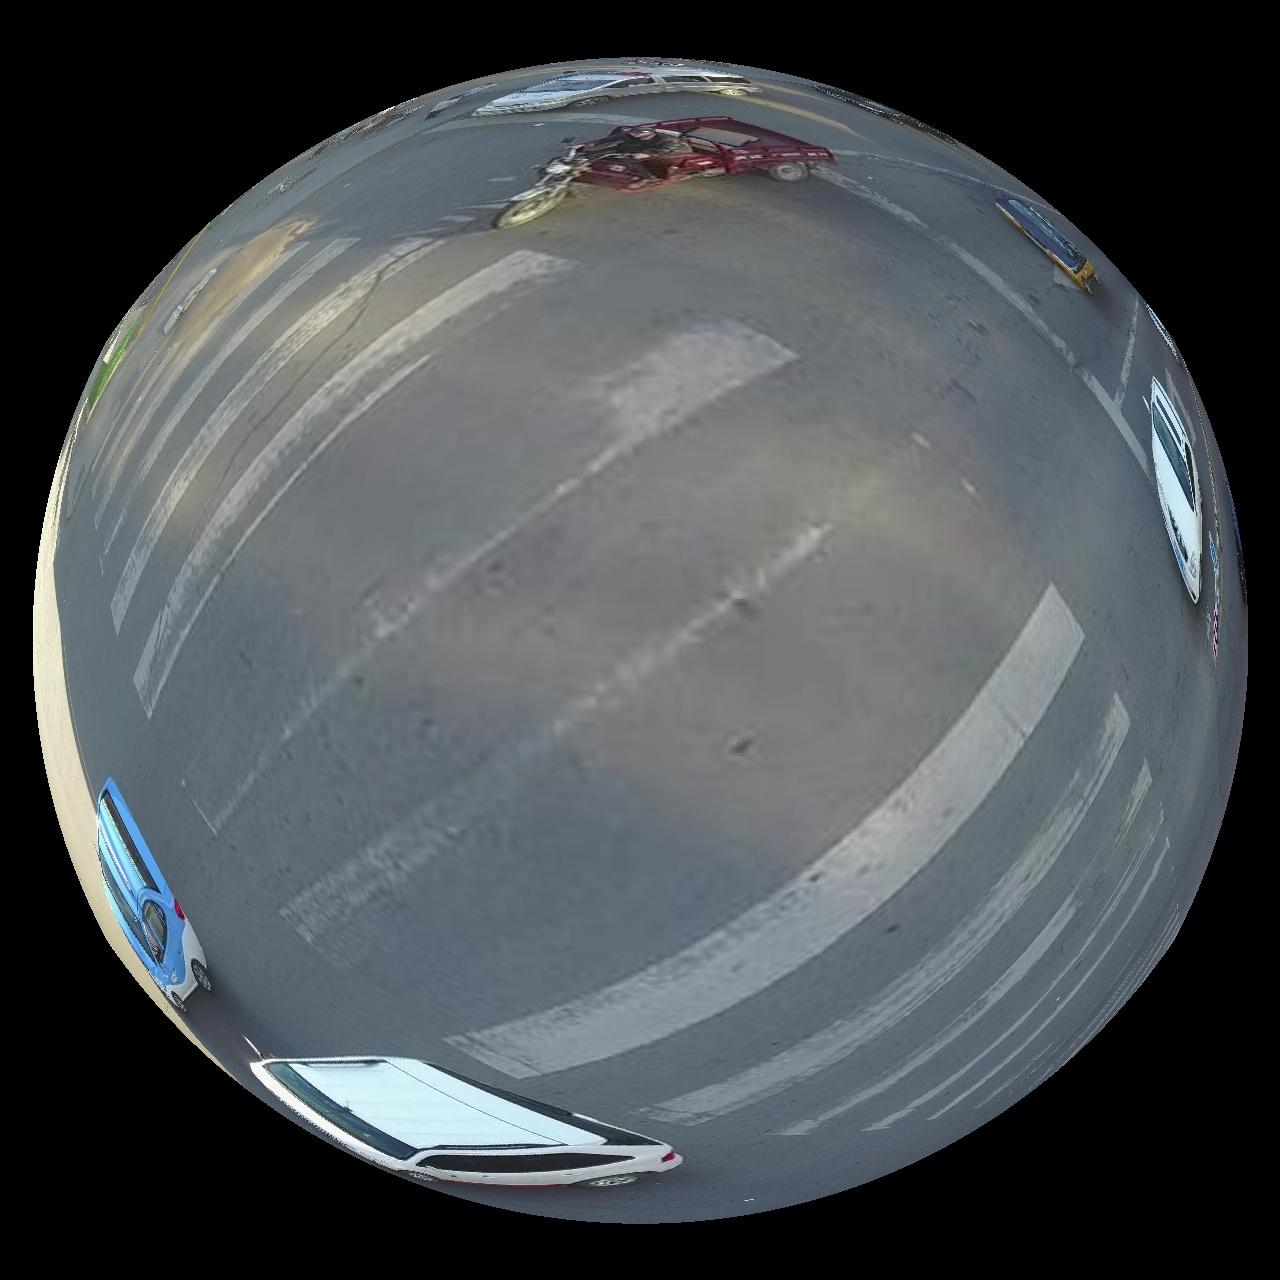cars: (248, 1060, 683, 1191), (497, 115, 835, 225), (95, 779, 209, 1014), (474, 61, 756, 115), (1152, 377, 1205, 601), (998, 196, 1097, 292)
